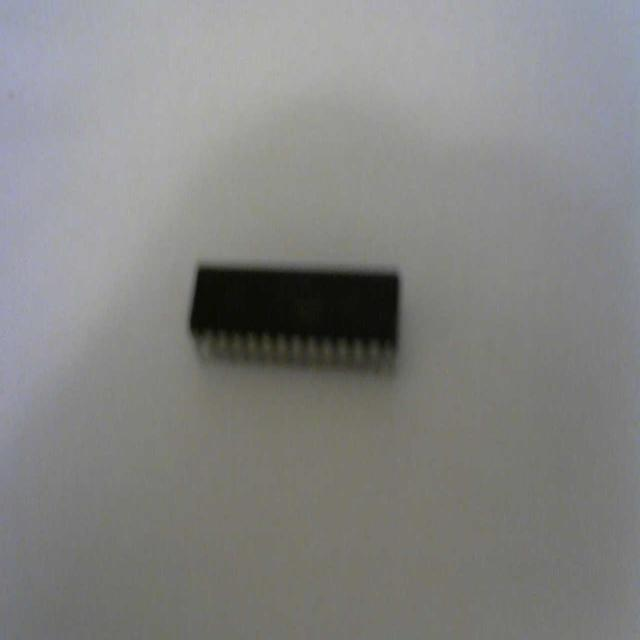atmega: (186, 257, 402, 381)
